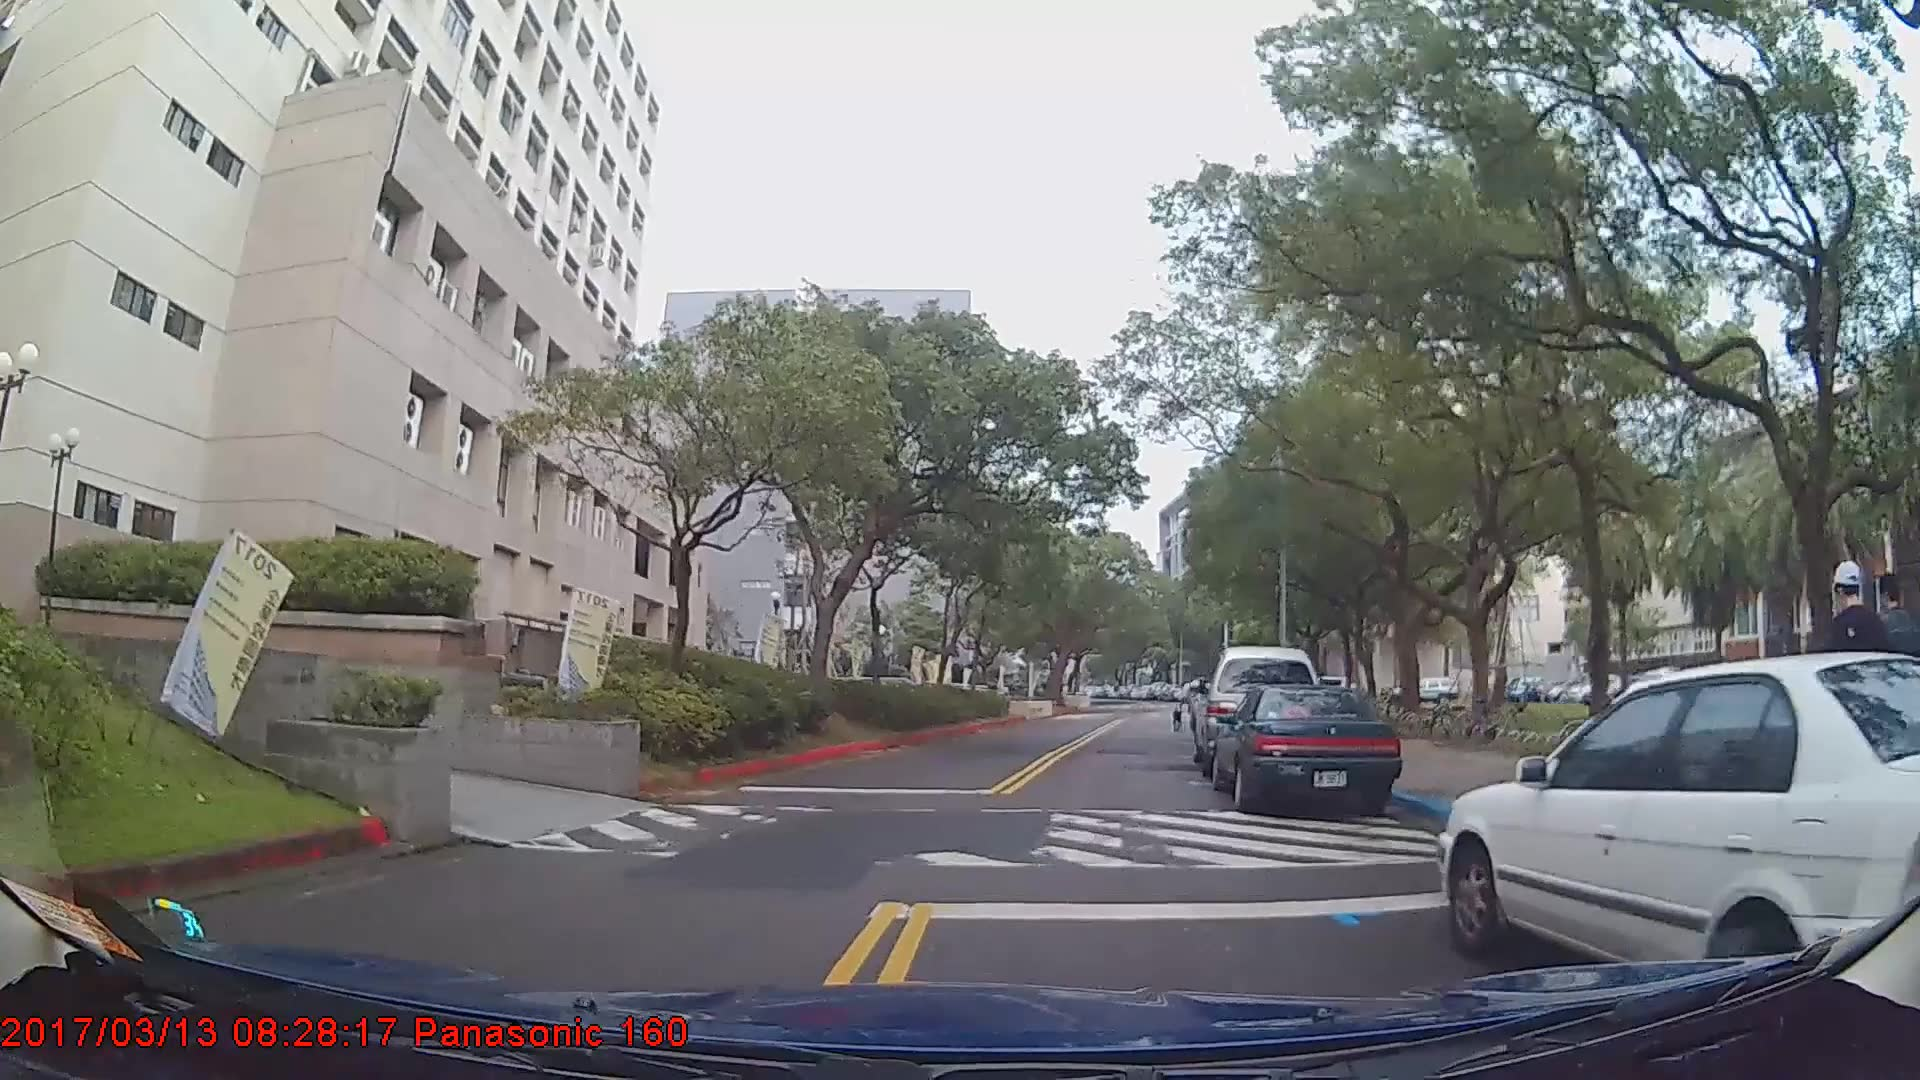pedestrian: (1822, 562, 1884, 835)
vehicle: (1437, 648, 1920, 1017), (1209, 686, 1400, 819), (1196, 645, 1326, 777)
